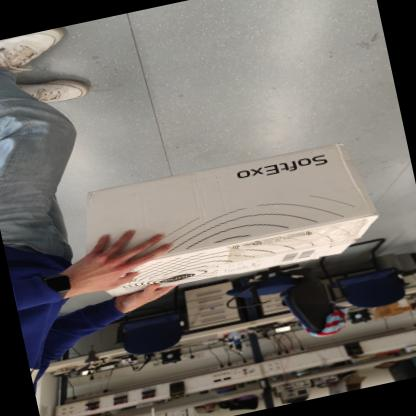box: (72, 128, 384, 320)
